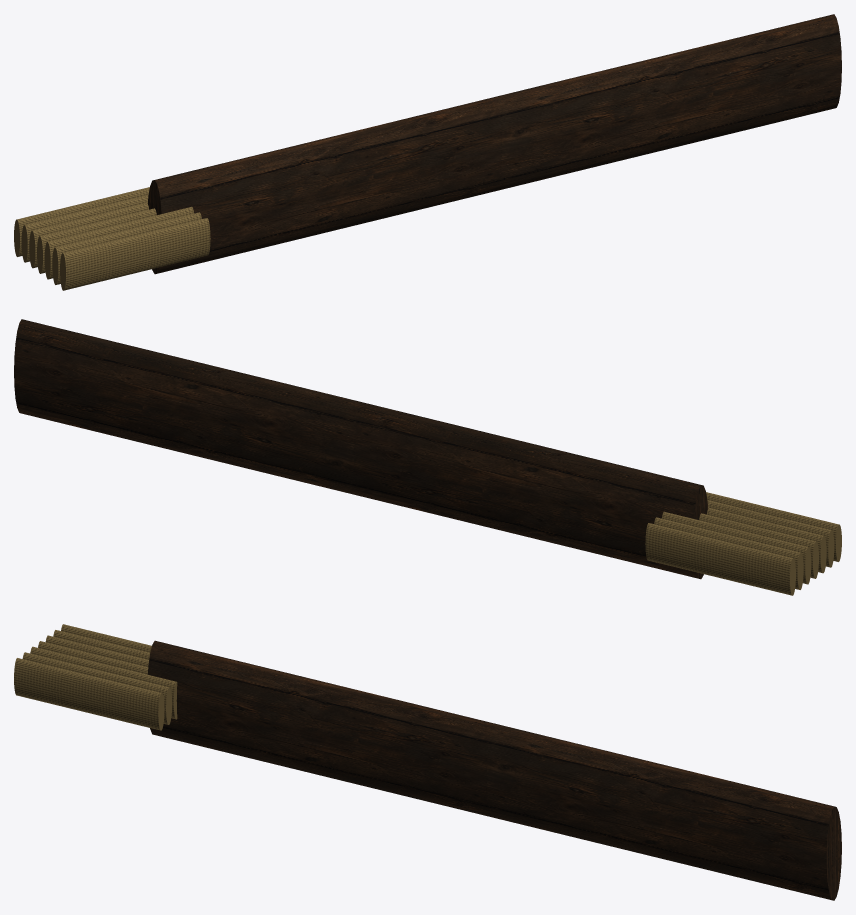
3 views of the same model, one above another, from view 1: azimuth 30°, elevation 25°; view 2: azimuth 150°, elevation 25°; view 3: azimuth 330°, elevation 25° (orthographic).
Visible parts, largest first — view 1: b-brush; view 2: b-brush; view 3: b-brush.
Part boxes in pixels (bbox=[...]): b-brush: bbox=[14, 14, 841, 290]; b-brush: bbox=[14, 319, 841, 595]; b-brush: bbox=[14, 624, 841, 900].
Bounding box in the file's own units: 0.22 × 0.025 × 0.025.
Materials: 2 (2 with a texture image).
